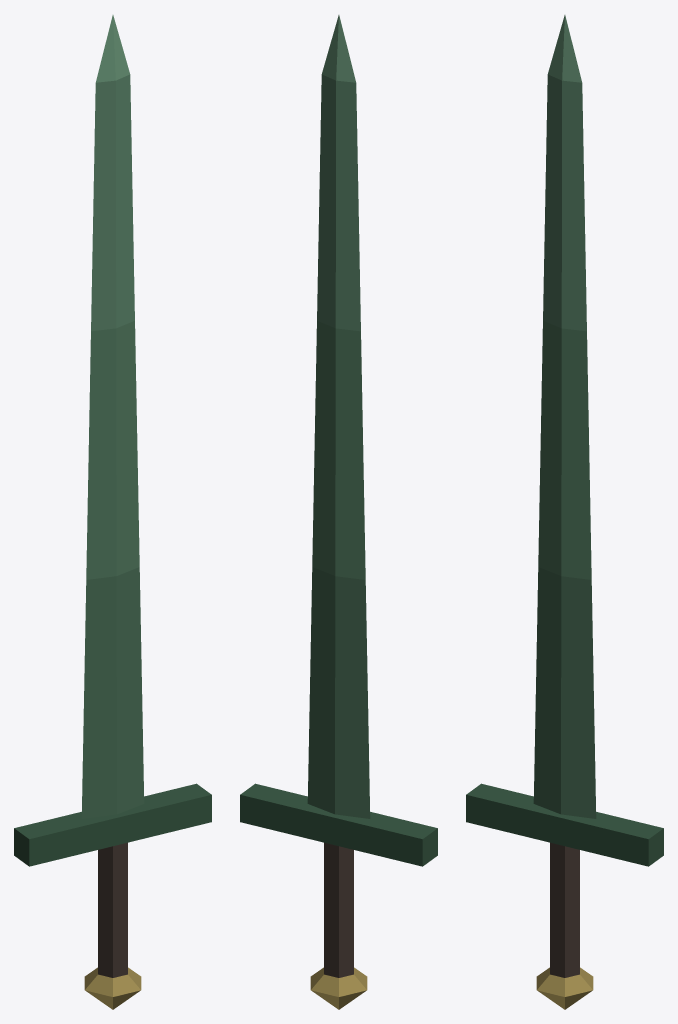
The model's file is sword_arming_adamant_s1040.glb.
The picture shows the model from 3 angles, left to right: view 1: azimuth 30°, elevation 25°; view 2: azimuth 150°, elevation 25°; view 3: azimuth 330°, elevation 25°; orthographic projection.
Parts seen in each view (by area): view 1: sword_arming_adamant_s1040; view 2: sword_arming_adamant_s1040; view 3: sword_arming_adamant_s1040.
Boxes of the visible parts, x1,y1,x2,y2 form: sword_arming_adamant_s1040: [14, 15, 211, 1009]; sword_arming_adamant_s1040: [240, 15, 437, 1009]; sword_arming_adamant_s1040: [466, 15, 663, 1009].
Bounding box in the file's own units: 0.1811 × 0.9442 × 0.0485.
Materials: 1 (1 with a texture image).
